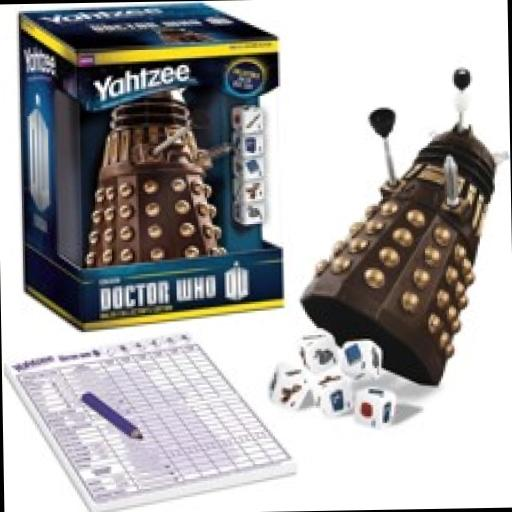dalek: (291, 66, 512, 387), (86, 76, 242, 272)
